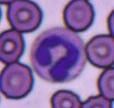N: (30, 27, 85, 83)
